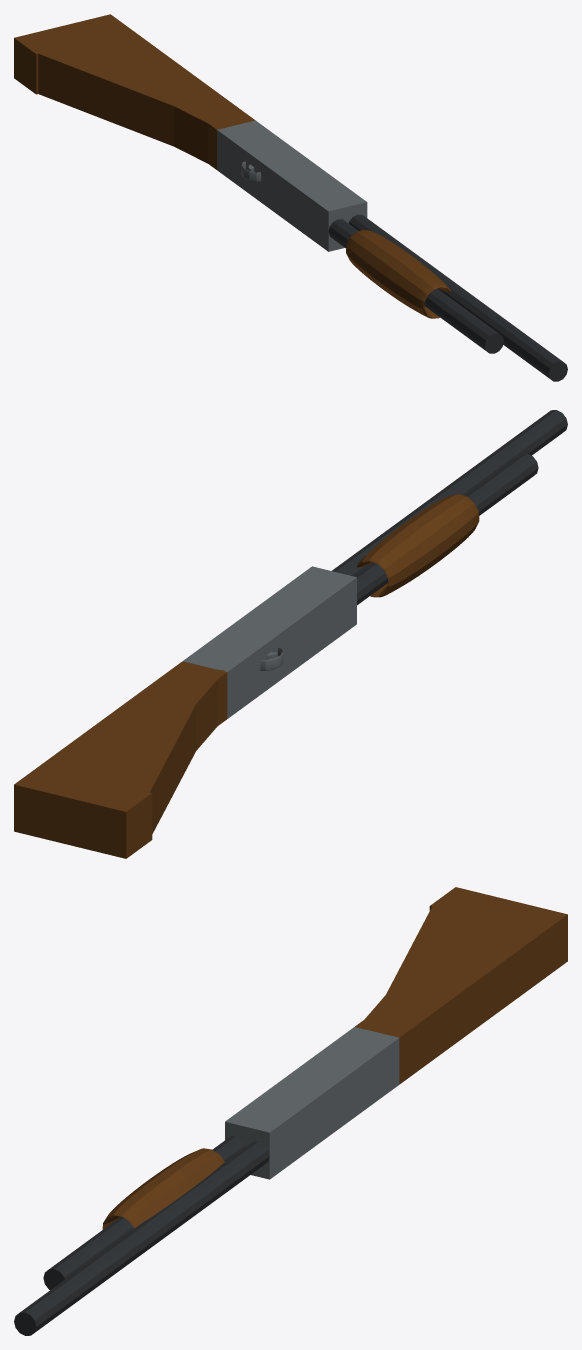
Rendered from tinker.obj.
3 views of the same model, one above another, from view 1: azimuth 30°, elevation 25°; view 2: azimuth 150°, elevation 25°; view 3: azimuth 330°, elevation 25° (orthographic). The views are drawn at different scales.
Visible parts, largest first — view 1: obj_5, obj_3, obj_4, obj_1, obj_2, obj_8, obj_0, obj_6; view 2: obj_3, obj_8, obj_5, obj_4, obj_1, obj_6, obj_2, obj_0; view 3: obj_4, obj_3, obj_2, obj_5, obj_1, obj_0, obj_6, obj_8.
Boxes of the visible parts, left/top/right/bottom form: obj_5: left=33, top=32, right=217, bottom=146; obj_3: left=217, top=120, right=367, bottom=251; obj_4: left=78, top=18, right=255, bottom=169; obj_1: left=346, top=229, right=451, bottom=318; obj_2: left=348, top=214, right=567, bottom=381; obj_8: left=14, top=14, right=132, bottom=94; obj_0: left=328, top=219, right=503, bottom=353; obj_6: left=43, top=28, right=251, bottom=163; obj_3: left=183, top=566, right=356, bottom=718; obj_8: left=14, top=768, right=152, bottom=858; obj_5: left=85, top=693, right=200, bottom=833; obj_4: left=21, top=661, right=227, bottom=790; obj_1: left=357, top=494, right=479, bottom=597; obj_6: left=68, top=664, right=224, bottom=798; obj_2: left=332, top=410, right=567, bottom=576; obj_0: left=354, top=453, right=538, bottom=605; obj_4: left=355, top=908, right=561, bottom=1084; obj_3: left=225, top=1027, right=399, bottom=1179; obj_2: left=14, top=1141, right=269, bottom=1335; obj_5: left=381, top=902, right=496, bottom=1005; obj_1: left=102, top=1148, right=224, bottom=1229; obj_0: left=43, top=1136, right=246, bottom=1289; obj_6: left=357, top=900, right=513, bottom=1034; obj_8: left=429, top=887, right=567, bottom=975.
Size of the model in its own units: 10 by 4 by 82.
